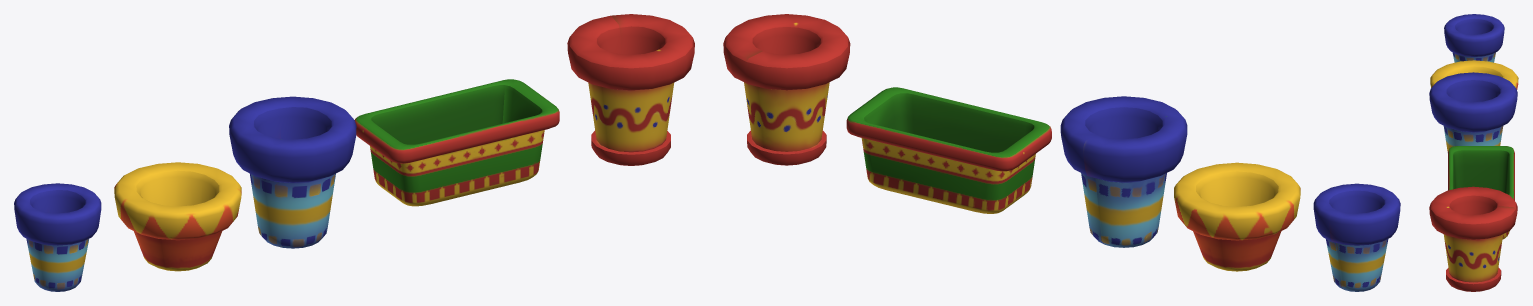
File: m_pots01_01.FBX
The picture shows the model from 3 angles, left to right: view 1: azimuth 30°, elevation 25°; view 2: azimuth 150°, elevation 25°; view 3: azimuth 270°, elevation 25°; orthographic projection. The views are drawn at different scales.
Visible parts, largest first — view 1: Pot_10, Pot_02, Pot_03, Pot_01, Pot_04; view 2: Pot_10, Pot_02, Pot_03, Pot_01, Pot_04; view 3: Pot_03, Pot_02, Pot_10, Pot_04, Pot_01.
Part boxes in pixels (x1=…): Pot_10: x1=354, y1=79, x2=559, y2=206; Pot_02: x1=229, y1=96, x2=356, y2=248; Pot_03: x1=567, y1=14, x2=694, y2=165; Pot_01: x1=114, y1=162, x2=241, y2=271; Pot_04: x1=14, y1=183, x2=101, y2=291; Pot_10: x1=846, y1=87, x2=1051, y2=213; Pot_02: x1=1060, y1=96, x2=1187, y2=247; Pot_03: x1=723, y1=14, x2=850, y2=165; Pot_01: x1=1174, y1=162, x2=1300, y2=271; Pot_04: x1=1313, y1=183, x2=1400, y2=291; Pot_03: x1=1429, y1=186, x2=1517, y2=291; Pot_02: x1=1429, y1=72, x2=1517, y2=152; Pot_10: x1=1448, y1=146, x2=1514, y2=239; Pot_04: x1=1444, y1=14, x2=1504, y2=62; Pot_01: x1=1430, y1=60, x2=1518, y2=89.
Bounding box in the file's own units: 480 × 78.88 × 80.3.
